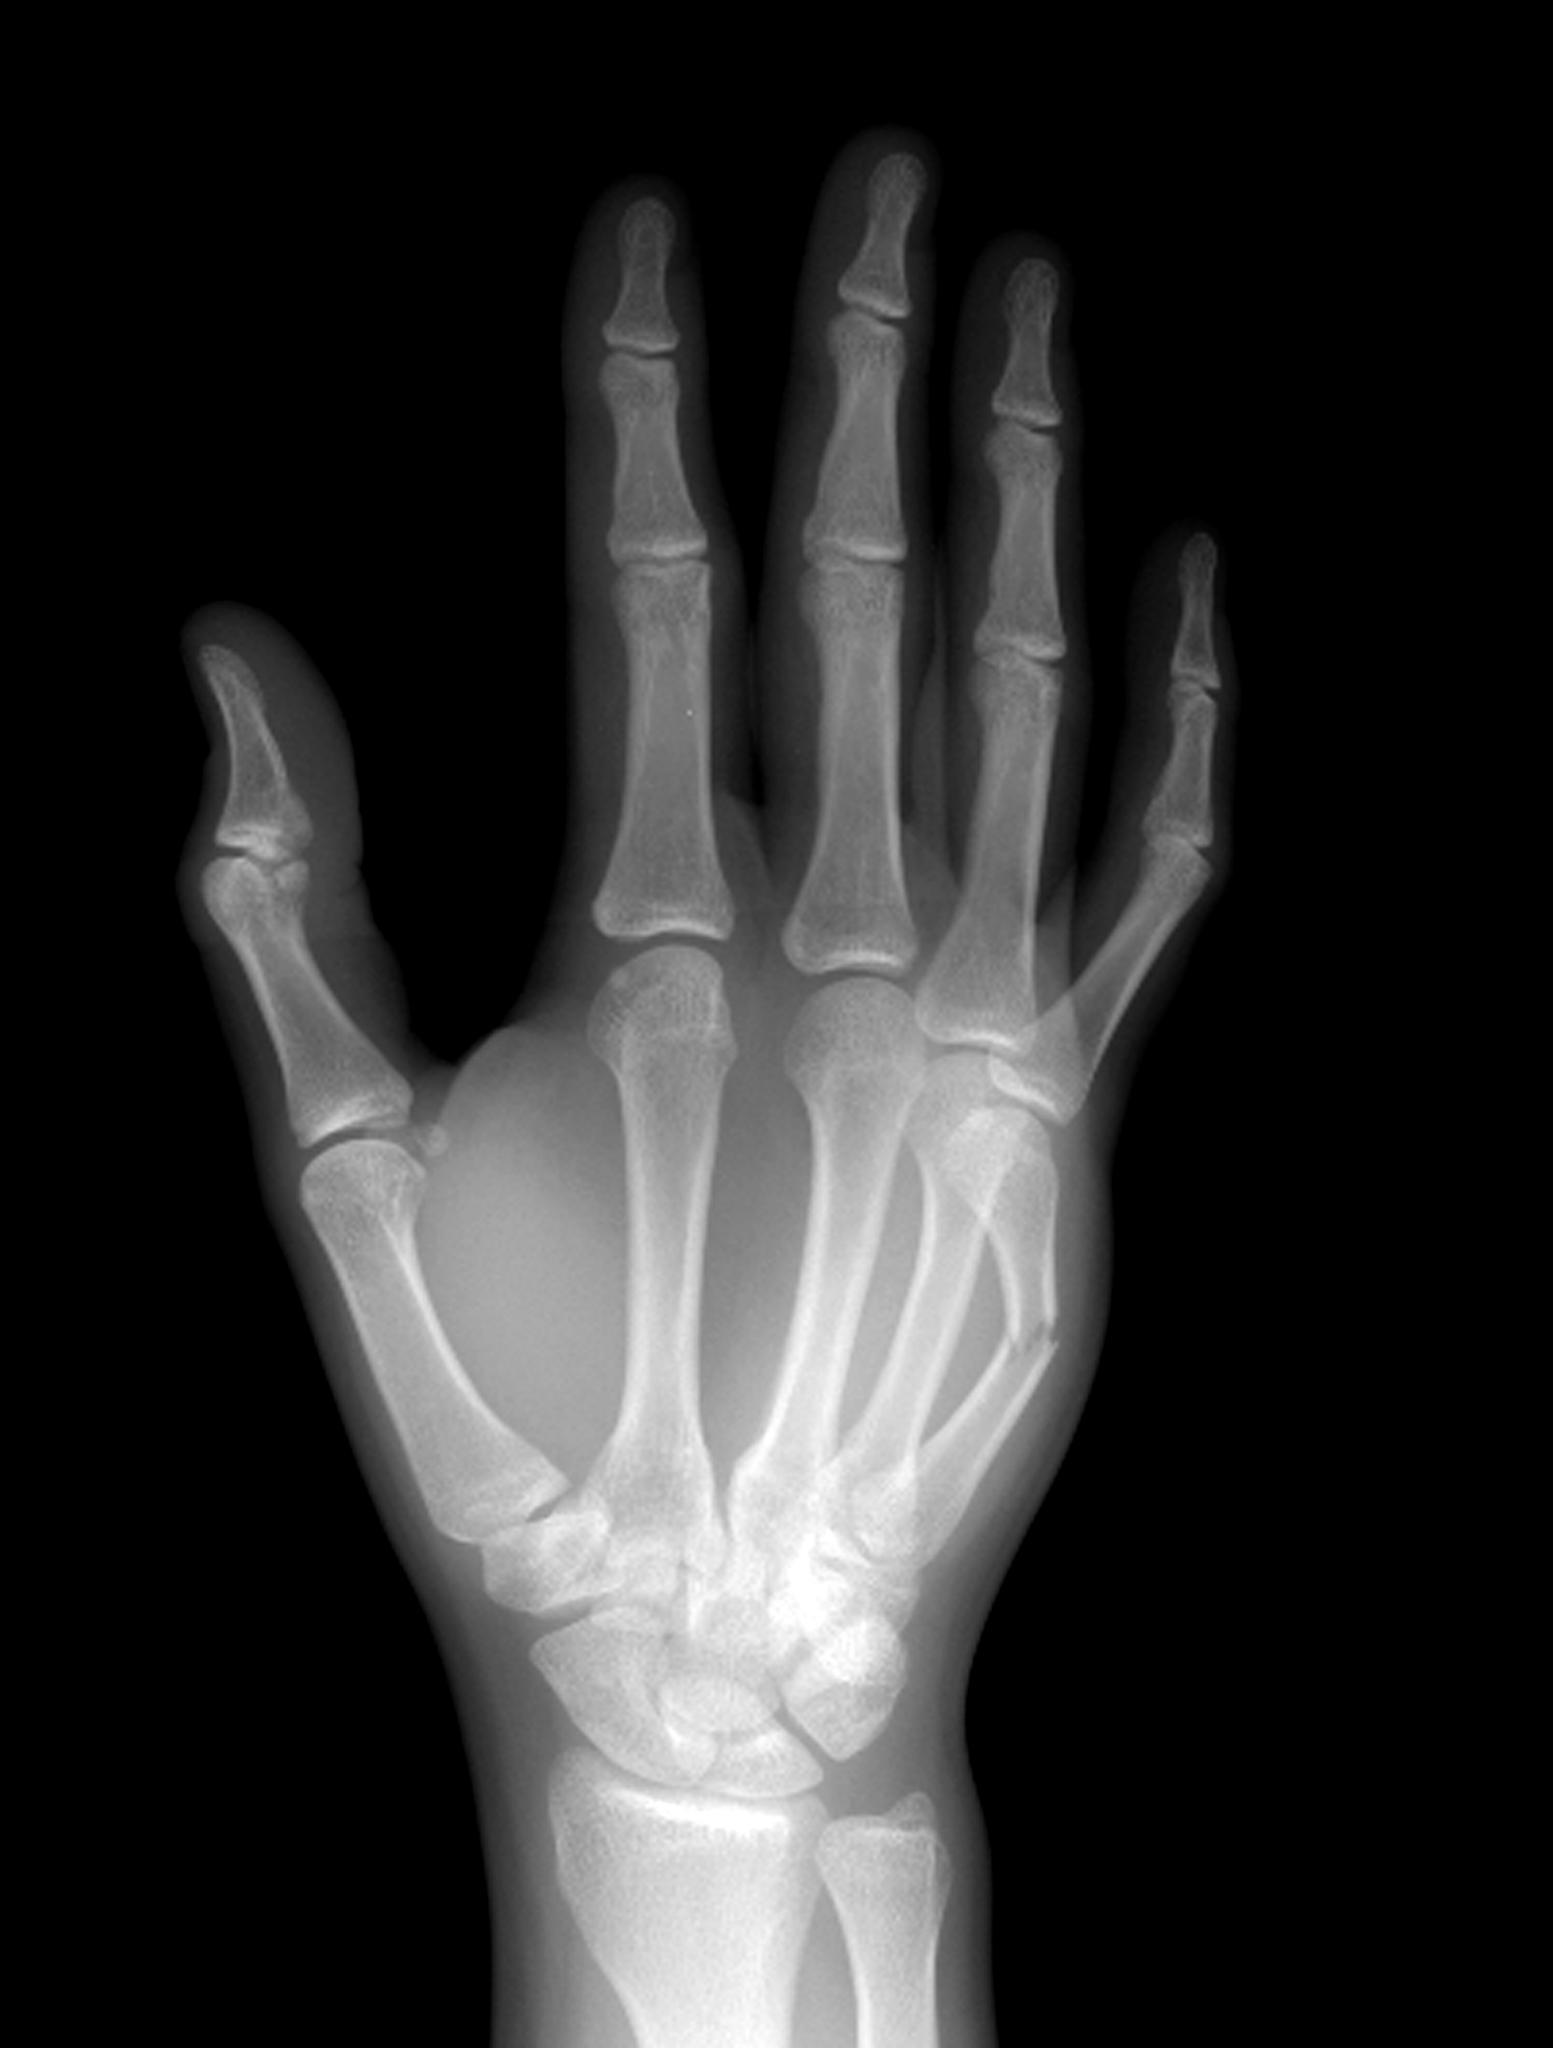fracture: (988, 1306, 1070, 1384)
